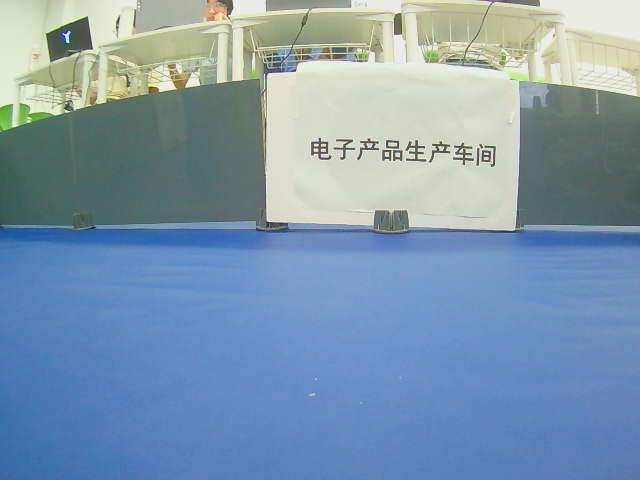target: (309, 136, 496, 168)
